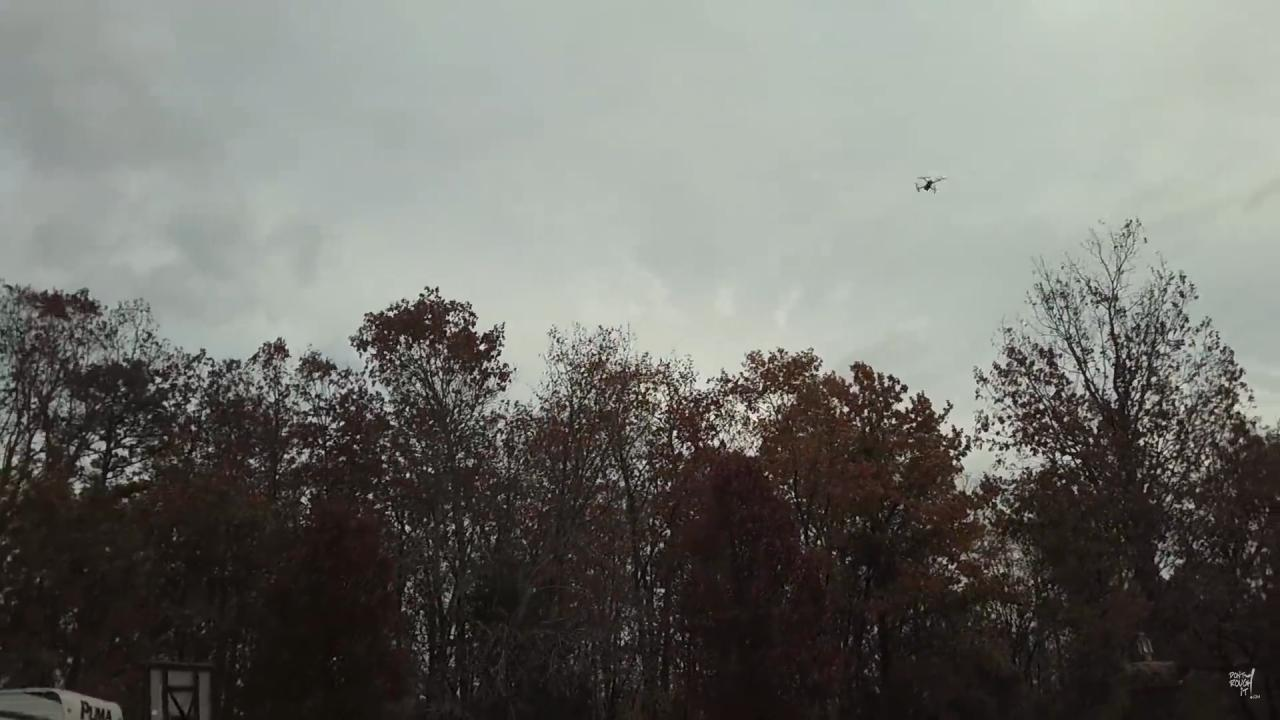Drone: (910, 170, 950, 198)
